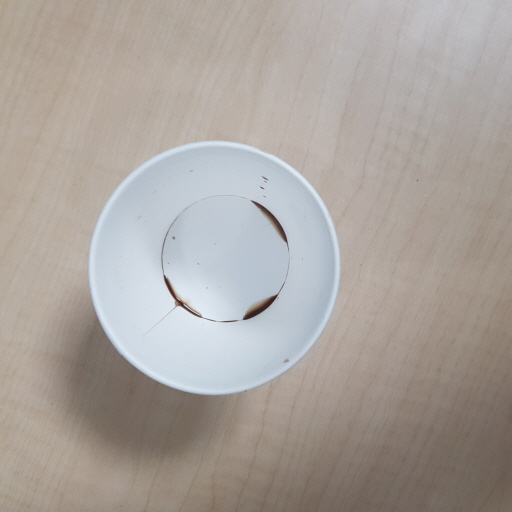Paper_1: (87, 135, 343, 396)
